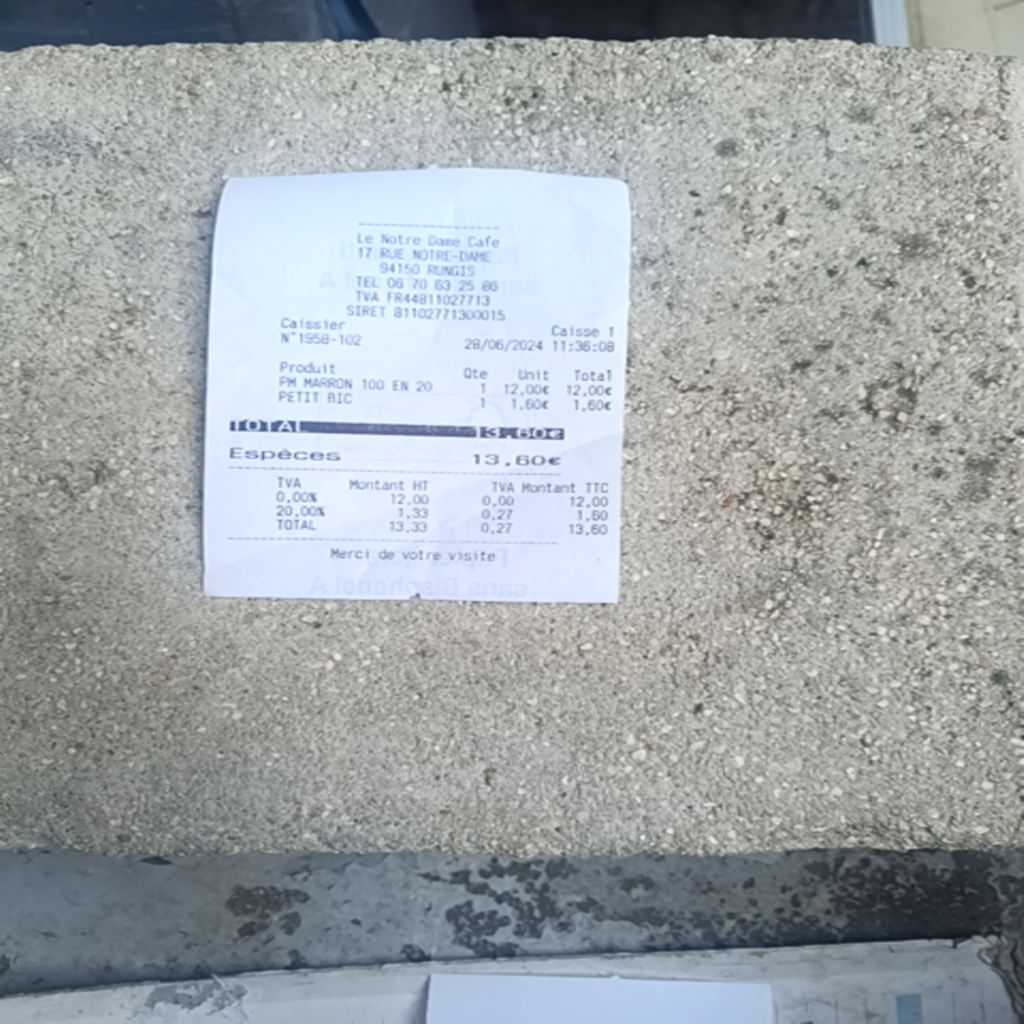recipt: (204, 170, 630, 609)
